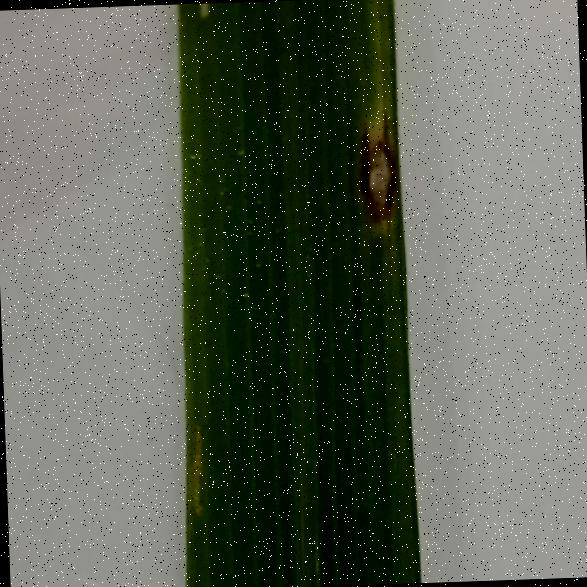Leaf_smut: (335, 80, 424, 252)
